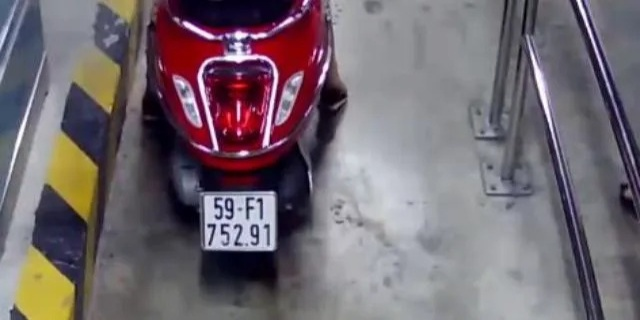bien_so: (199, 192, 279, 253)
